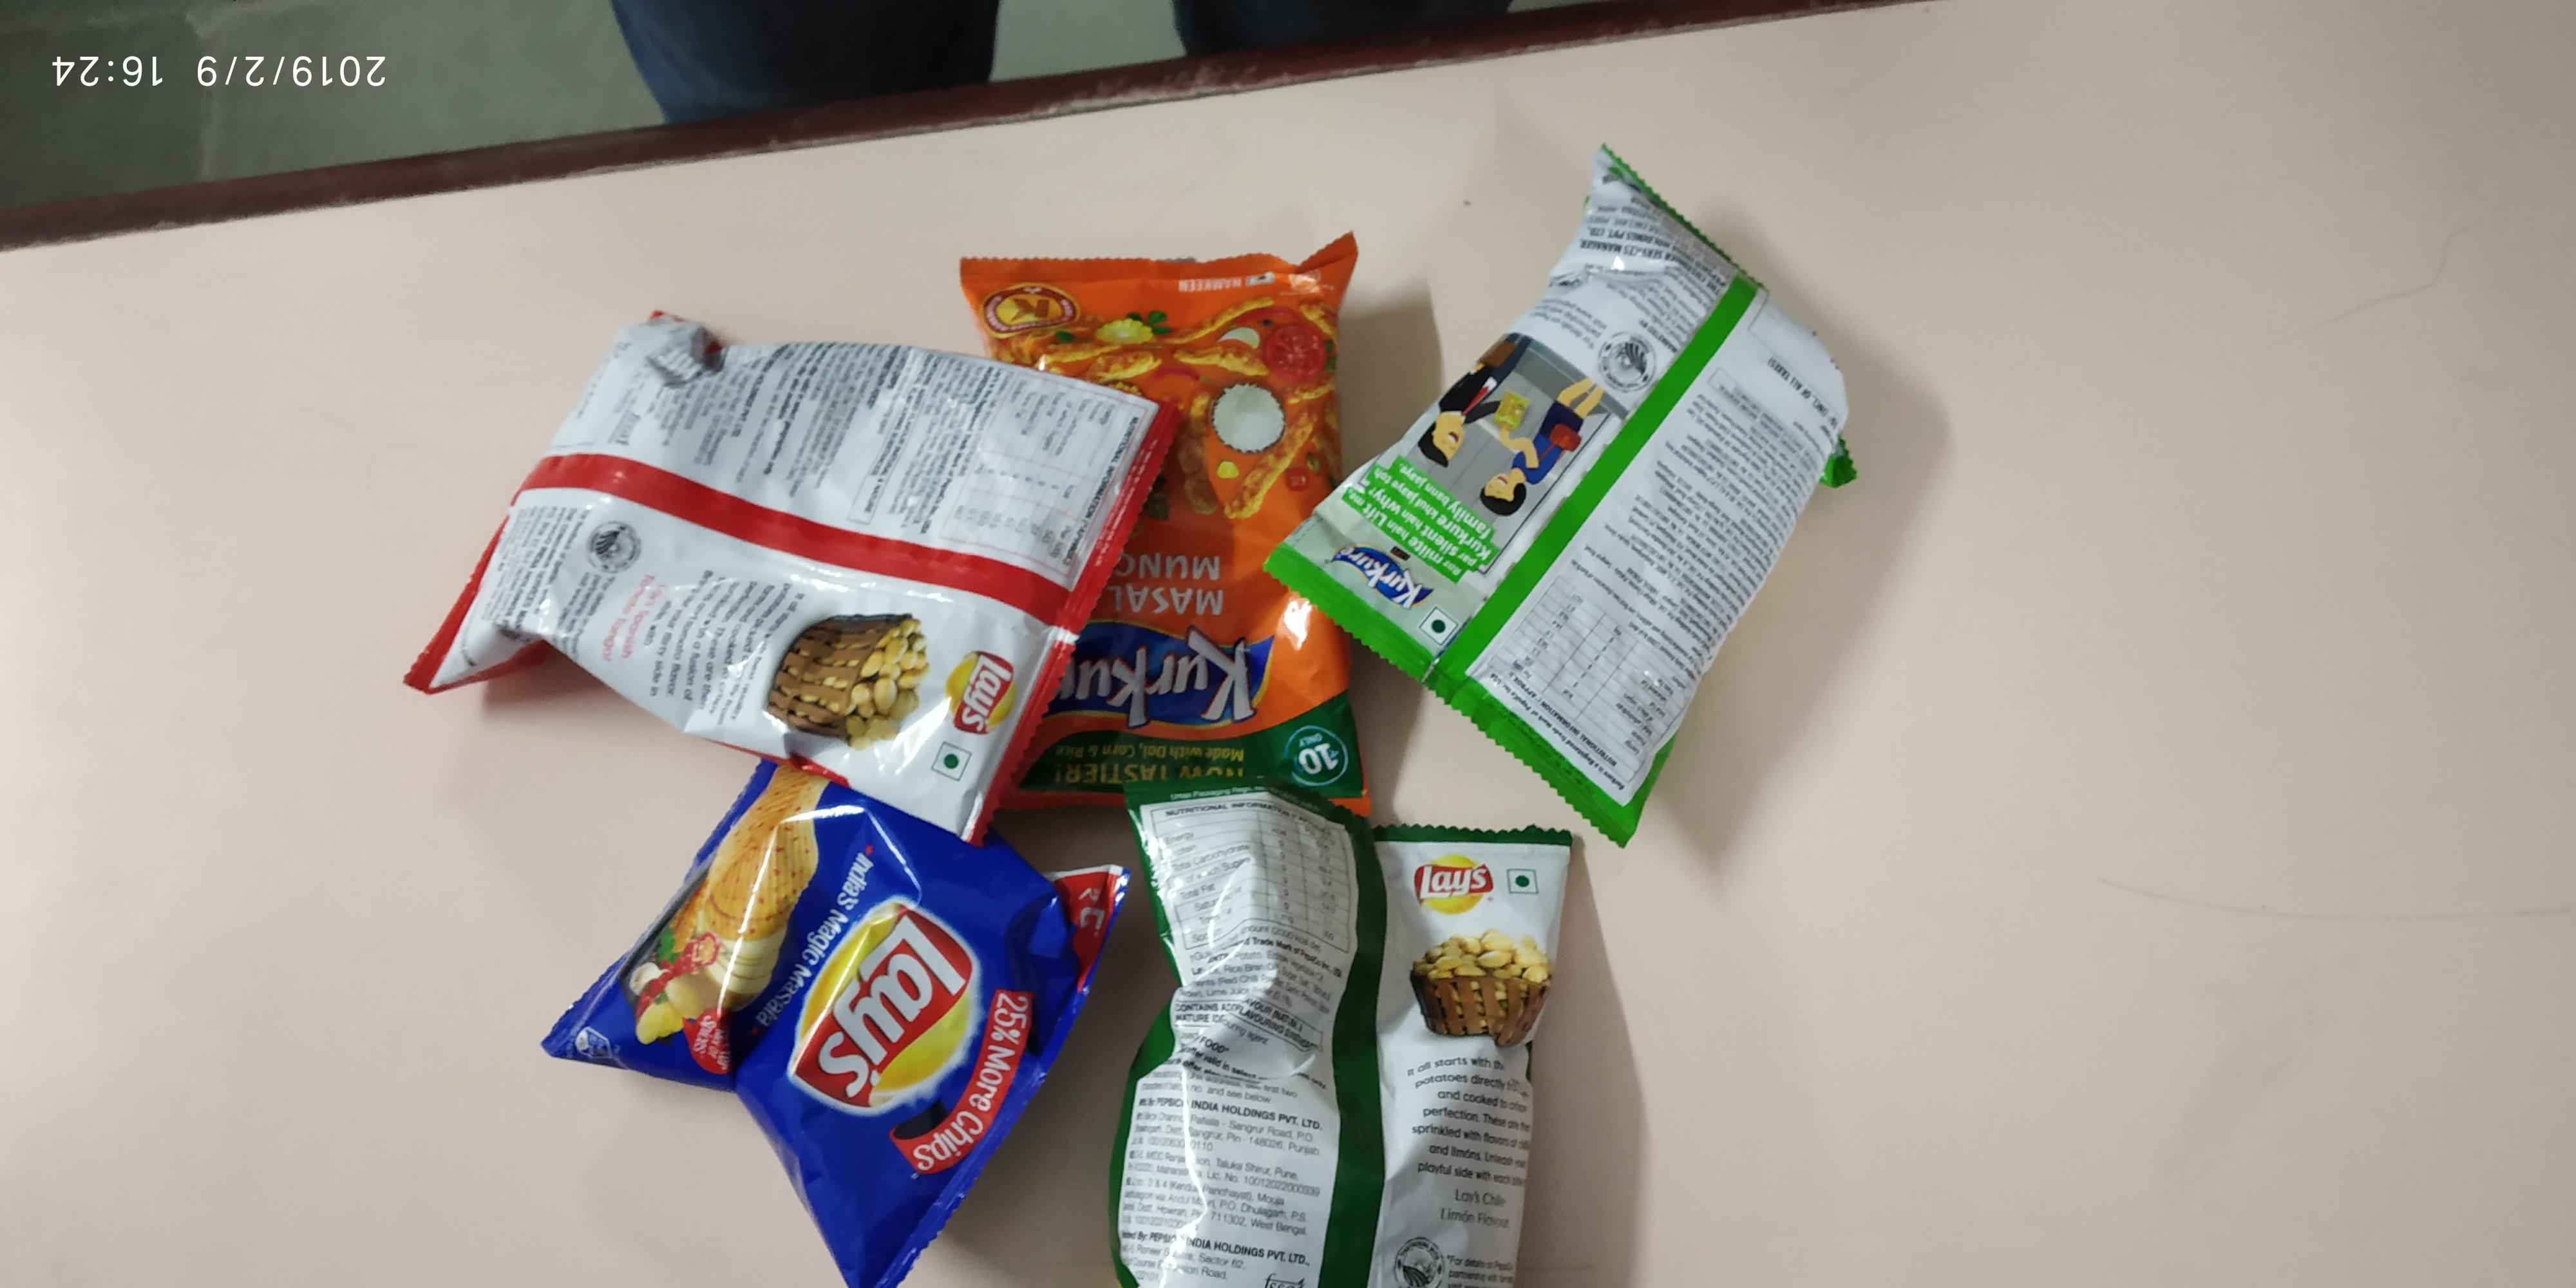Lays: (766, 892, 1000, 1096), (940, 642, 1022, 751), (1398, 838, 1502, 923)
kurkure: (1030, 621, 1303, 721), (1322, 531, 1441, 613)
